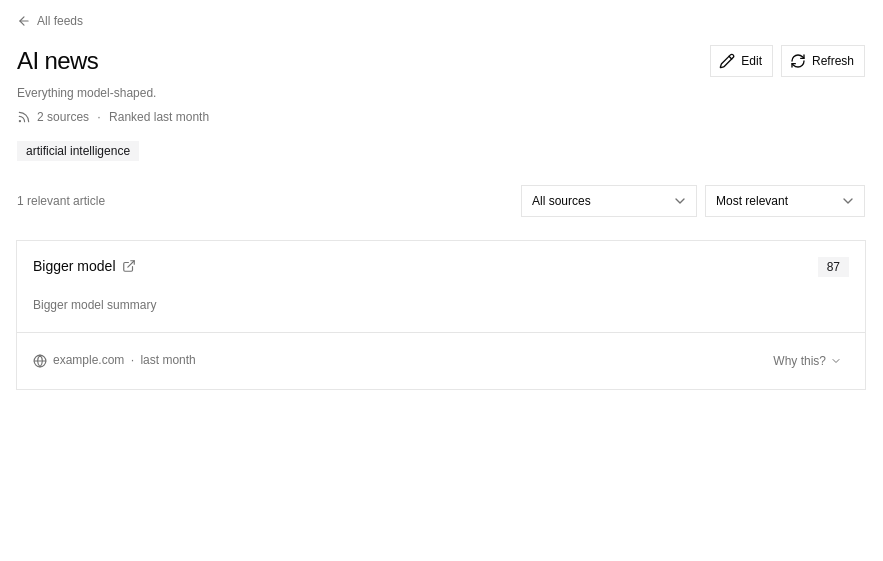
FeedPage › reveals the four real score factors behind "Why this?"
Click the button "Why this?".
click(807, 361)  # box [764,349,849,373]
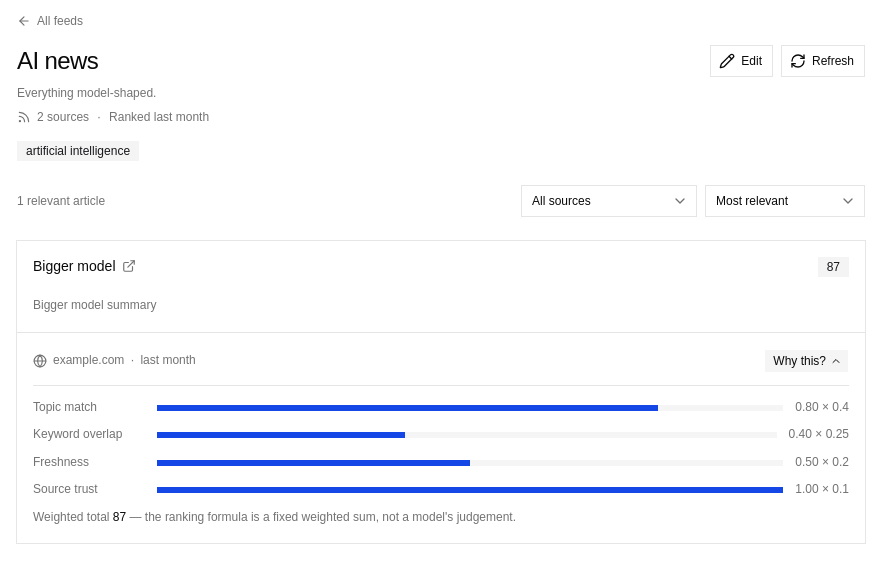
Expected: the text "Topic match" is shown, [33,400,97,414]
Expected: the text "Keyword overlap" is shown, [33,427,122,441]
Expected: the text "Freshness" is shown, [33,455,89,469]
